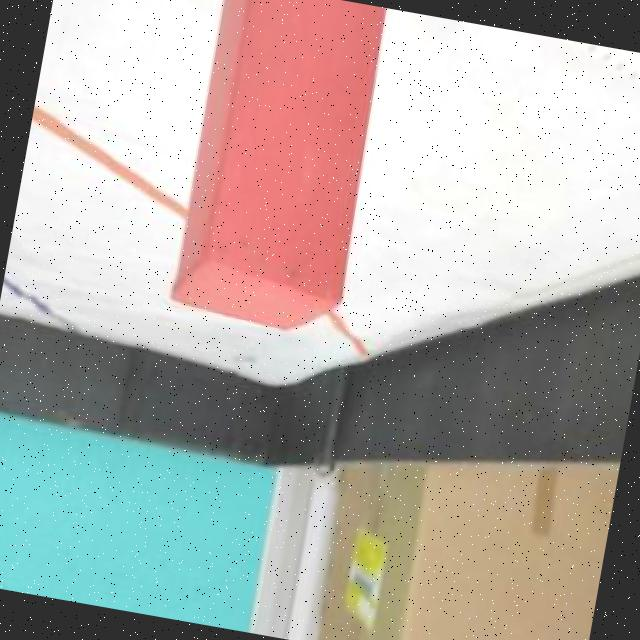redbox: (170, 0, 391, 339)
